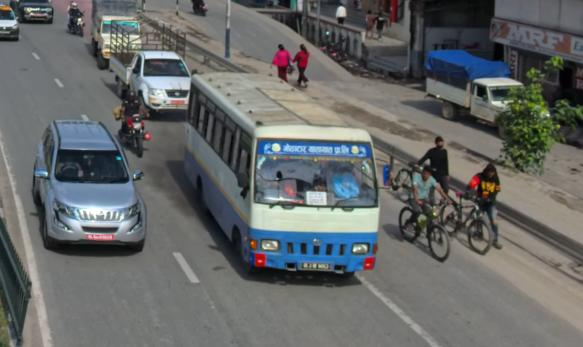SUV: (27, 119, 148, 261)
bus: (175, 57, 389, 290)
transport_vehicle: (421, 47, 552, 142), (109, 18, 194, 115), (89, 0, 143, 69)
